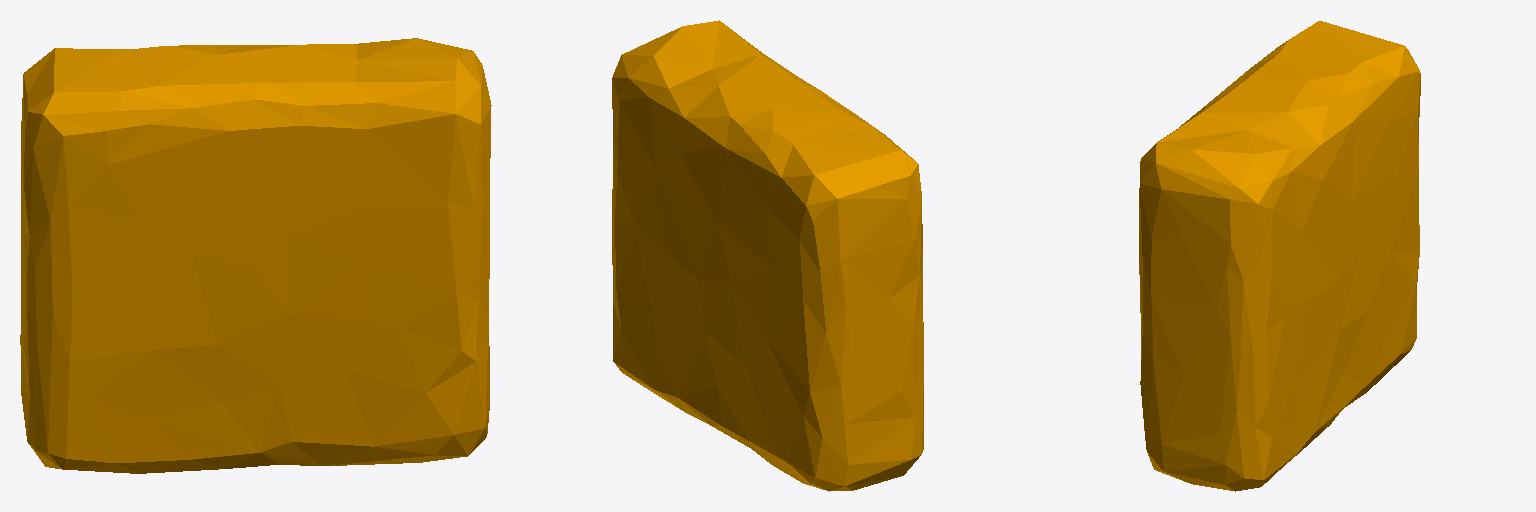
robot.urdf — south_beach_good_to_go_dark_chocolate:
<?xml version="1.0"?>
<robot name="south_beach_good_to_go_dark_chocolate">
  <link name="base_link">
    <contact>
      <lateral_friction value="1.0"/>
      <rolling_friction value="0.0"/>
      <contact_cfm value="0.0"/>
      <contact_erp value="1.0"/>
    </contact>
    <inertial>
      <mass value="0.772887845164"/>
      <inertia ixx="1" ixy="0" ixz="0" iyy="1" iyz="0" izz="1"/>
    </inertial>
    <visual>
      <geometry>
        <mesh filename="south_beach_good_to_go_dark_chocolate_visual.obj"/>
      </geometry>
    </visual>
    <collision>
      <geometry>
        <mesh filename="south_beach_good_to_go_dark_chocolate_collision.obj"/>
      </geometry>
    </collision>
  </link>
</robot>

--- Render facts (derived) ---
Views: 3 orthographic renders of the robot side by side, from view 1: azimuth 30°, elevation 25°; view 2: azimuth 150°, elevation 25°; view 3: azimuth 270°, elevation 25°.
Model south_beach_good_to_go_dark_chocolate with 1 links and 0 joints (none), rooted at base_link, posed every joint at zero.
Visible links, largest first — view 1: base_link; view 2: base_link; view 3: base_link.
Link boxes in pixels (x1,y1,x2,y2): base_link: (20, 38, 491, 473); base_link: (612, 20, 923, 491); base_link: (1139, 21, 1420, 491).
Size in the robot's own frame: 0.1529 by 0.1089 by 0.1435 metres.
1 mesh visuals loaded from 1 distinct referenced files (1 OBJ).